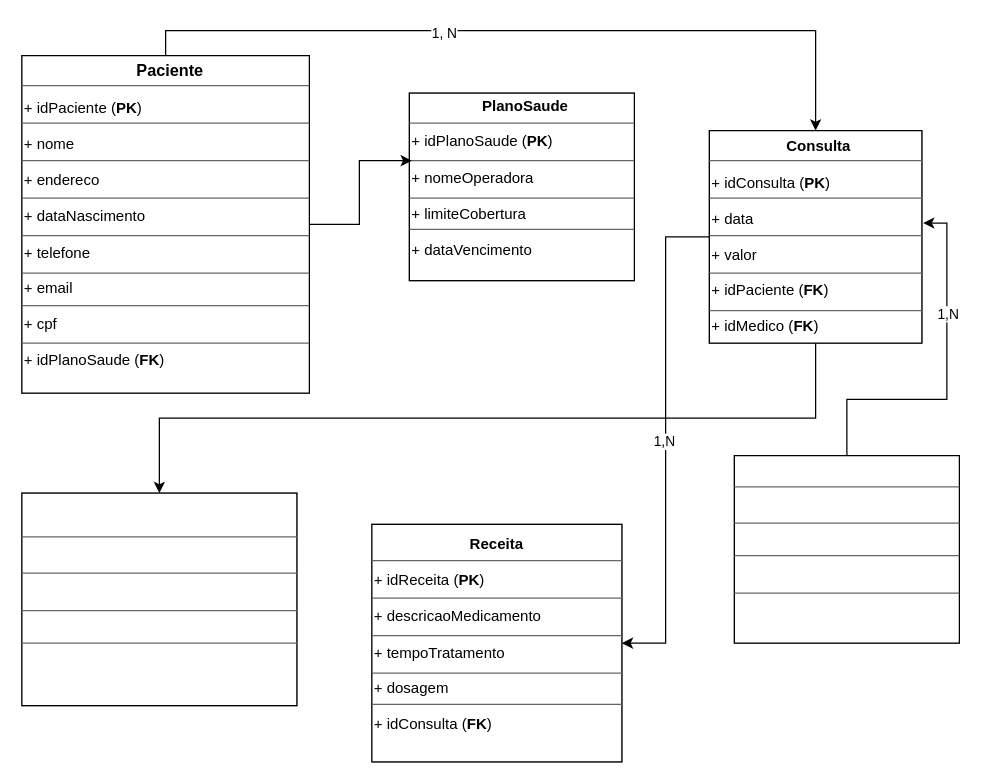
The diagram is 981 pixels wide and 784 high, and some of its shapes have lost their labels. Here are the shapes that lost their labels. From the top down, the box of each, then its label:
(733, 454, 959, 643): Medico + idMedico ( PK ) + nome + especialidade + crm
(21, 492, 297, 706): Pagamento + idPagamento ( PK ) + valor + data + idConsulta ( FK )
